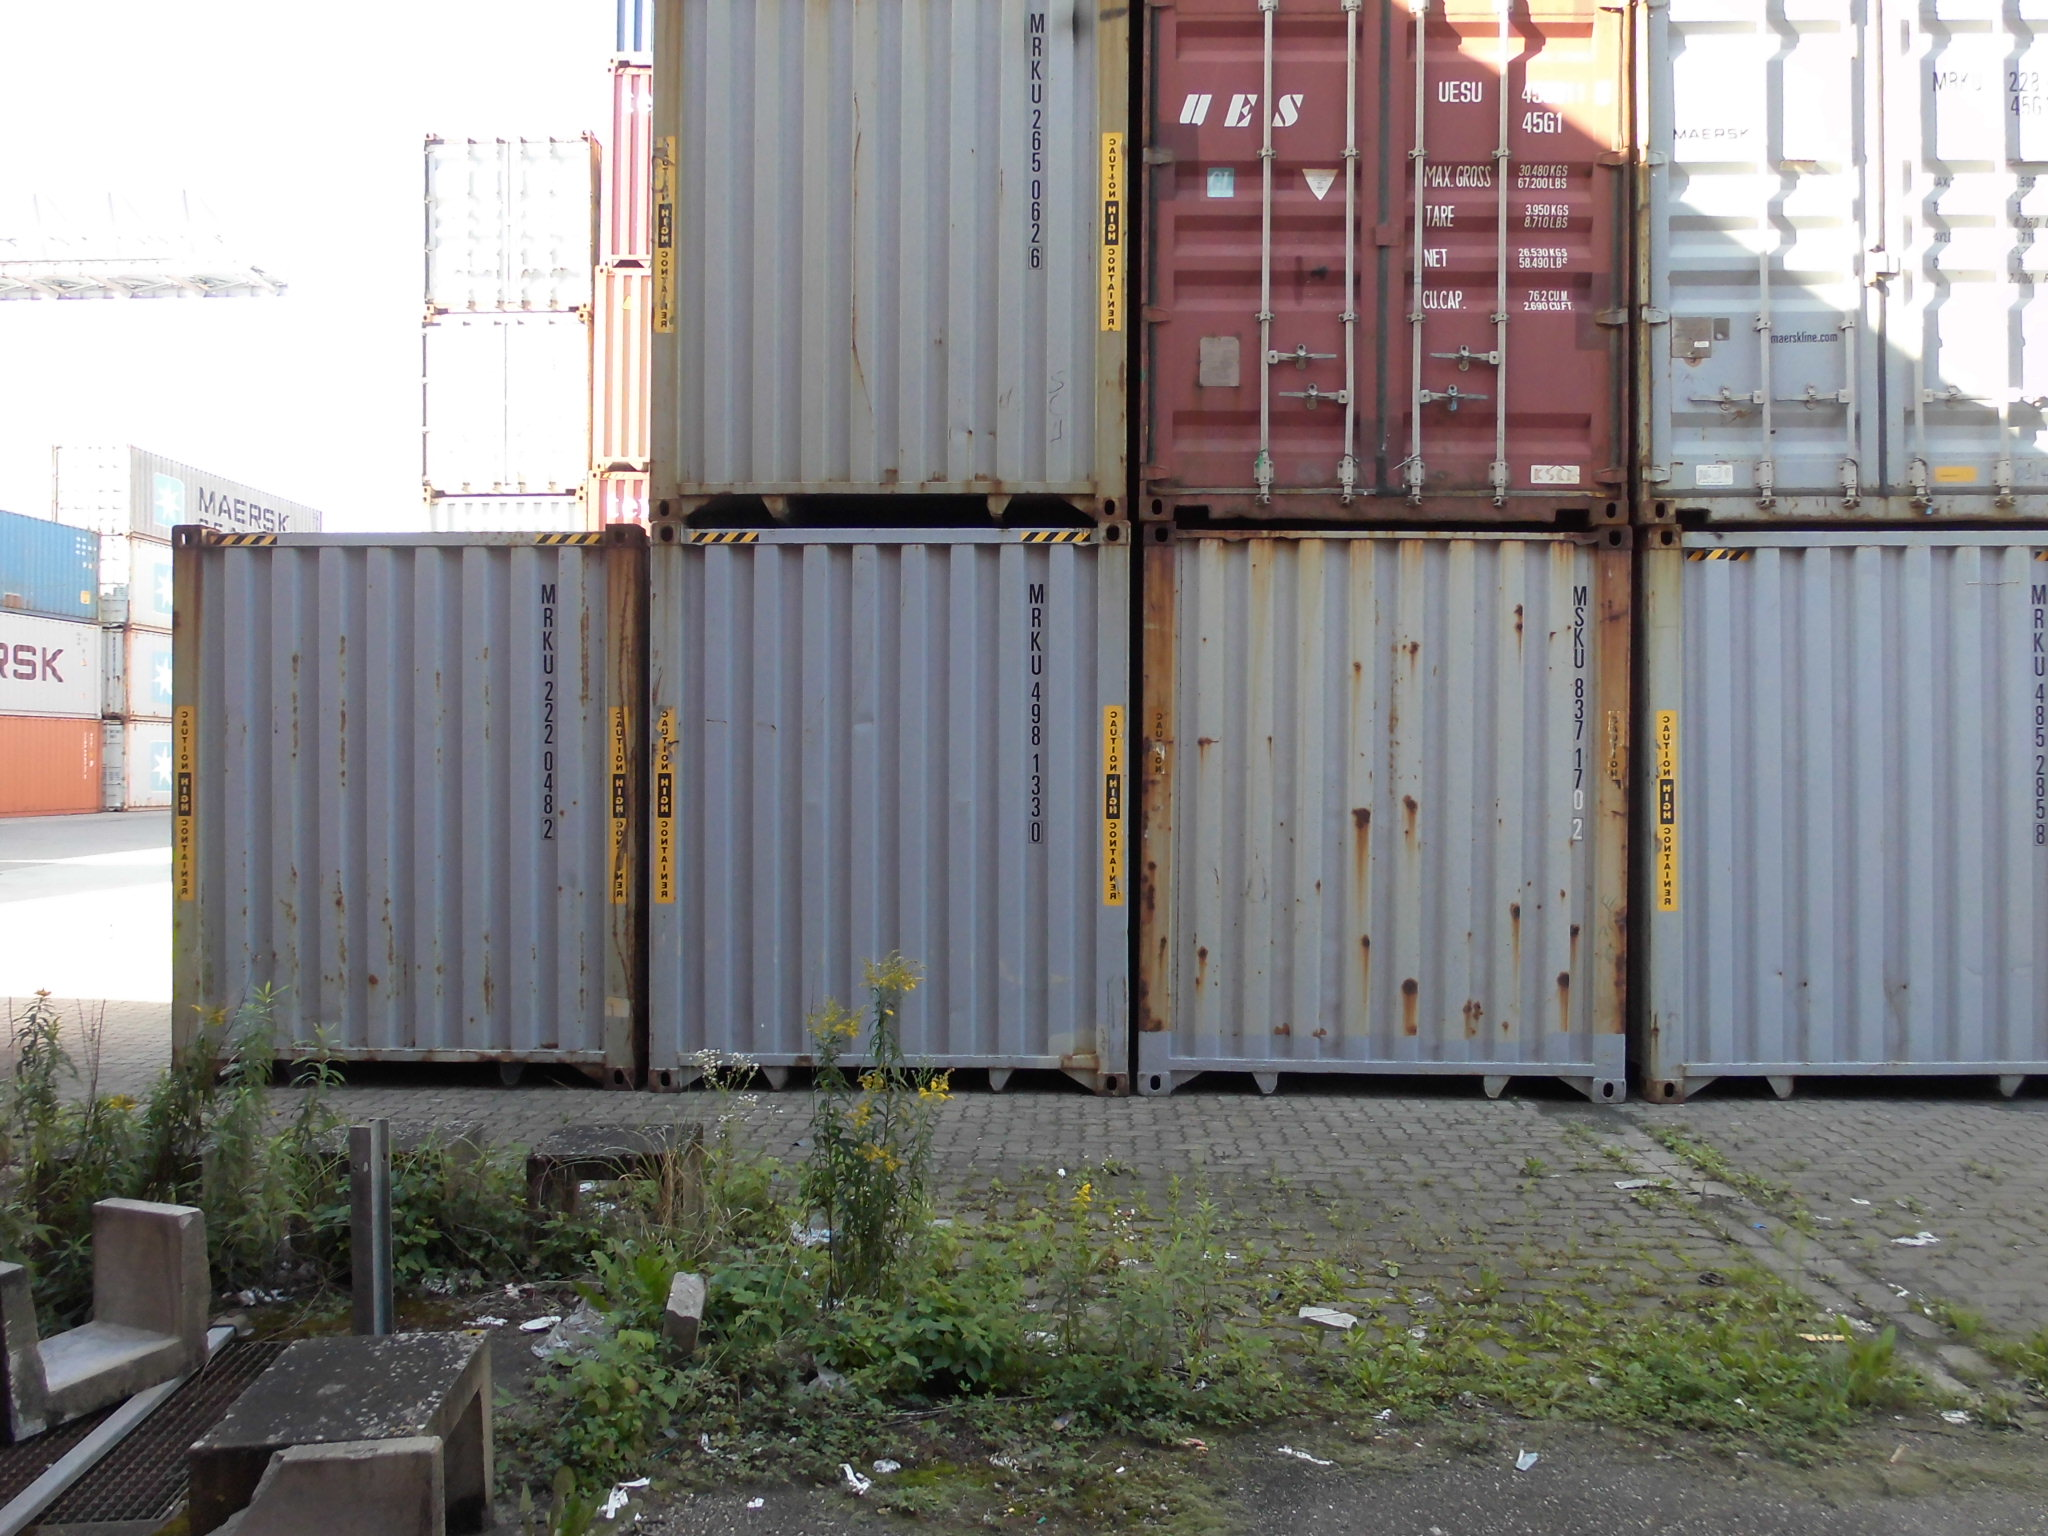container_door: (1147, 5, 1624, 497), (1646, 2, 2046, 511)
container_no_door: (1150, 534, 1642, 1105), (647, 528, 1135, 1071), (1650, 532, 2046, 1108), (190, 528, 613, 1055), (679, 2, 1098, 494)
